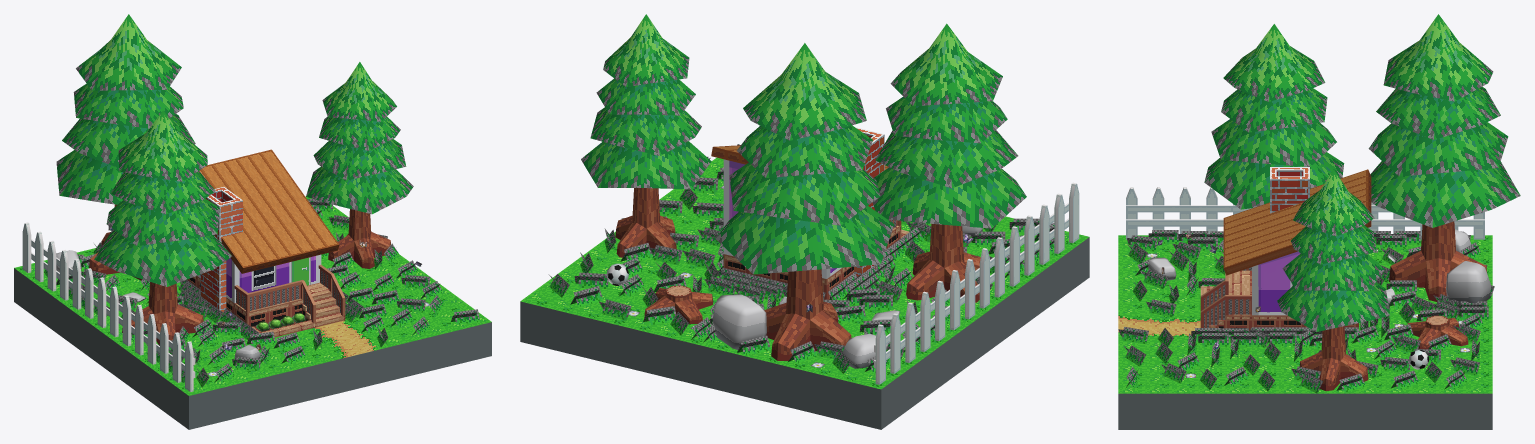
File: casaC03.glb
3 views of the same model, side by side, from view 1: azimuth 30°, elevation 25°; view 2: azimuth 150°, elevation 25°; view 3: azimuth 270°, elevation 25° (orthographic). The views are drawn at different scales.
Visible parts, largest first — view 1: ground, tree_01, tree_02, tree_00, house, fence, support, chimney; view 2: ground, tree_02, tree_01, tree_00, fence, rock_02, tree_stump, house, support, chimney, rock_04; view 3: ground, tree_02, tree_01, tree_00, house, fence, support, chimney, rock_02, tree_stump, grass_092, rock_00 (+4 smaller).
Part boxes in pixels (x1,y1,x2,y2): ground: (14, 196, 491, 429); tree_01: (94, 110, 231, 344); tree_02: (56, 14, 195, 280); tree_00: (306, 62, 413, 268); house: (197, 149, 339, 303); fence: (22, 222, 195, 391); support: (187, 264, 345, 337); chimney: (200, 187, 242, 318); ground: (520, 157, 1089, 429); tree_02: (715, 43, 894, 360); tree_01: (872, 23, 1026, 302); tree_00: (581, 14, 711, 257); fence: (874, 182, 1079, 384); rock_02: (712, 294, 766, 349); tree_stump: (644, 285, 713, 323); house: (711, 145, 888, 278); support: (723, 219, 909, 299); chimney: (854, 127, 884, 276); rock_04: (842, 333, 888, 368); ground: (1118, 235, 1492, 429); tree_02: (1368, 14, 1520, 301); tree_01: (1204, 24, 1344, 209); tree_00: (1277, 169, 1390, 391); house: (1223, 169, 1371, 315); fence: (1126, 187, 1484, 239); support: (1200, 267, 1358, 330); chimney: (1270, 167, 1309, 213); rock_02: (1446, 261, 1491, 304); tree_stump: (1407, 315, 1468, 349); grass_092: (1376, 234, 1406, 248); rock_00: (1148, 257, 1176, 280).
Bounding box in the file's own units: 15.11 × 12.57 × 15.06.
Materials: 1 (1 with a texture image).
